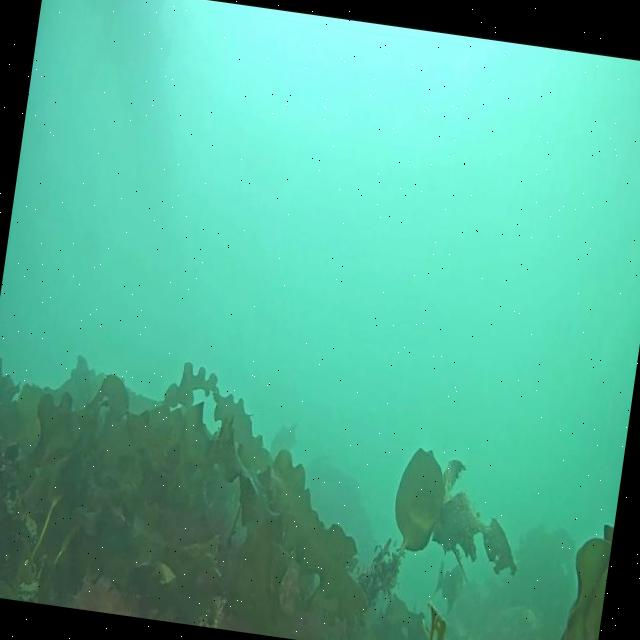fish: (429, 557, 466, 613)
